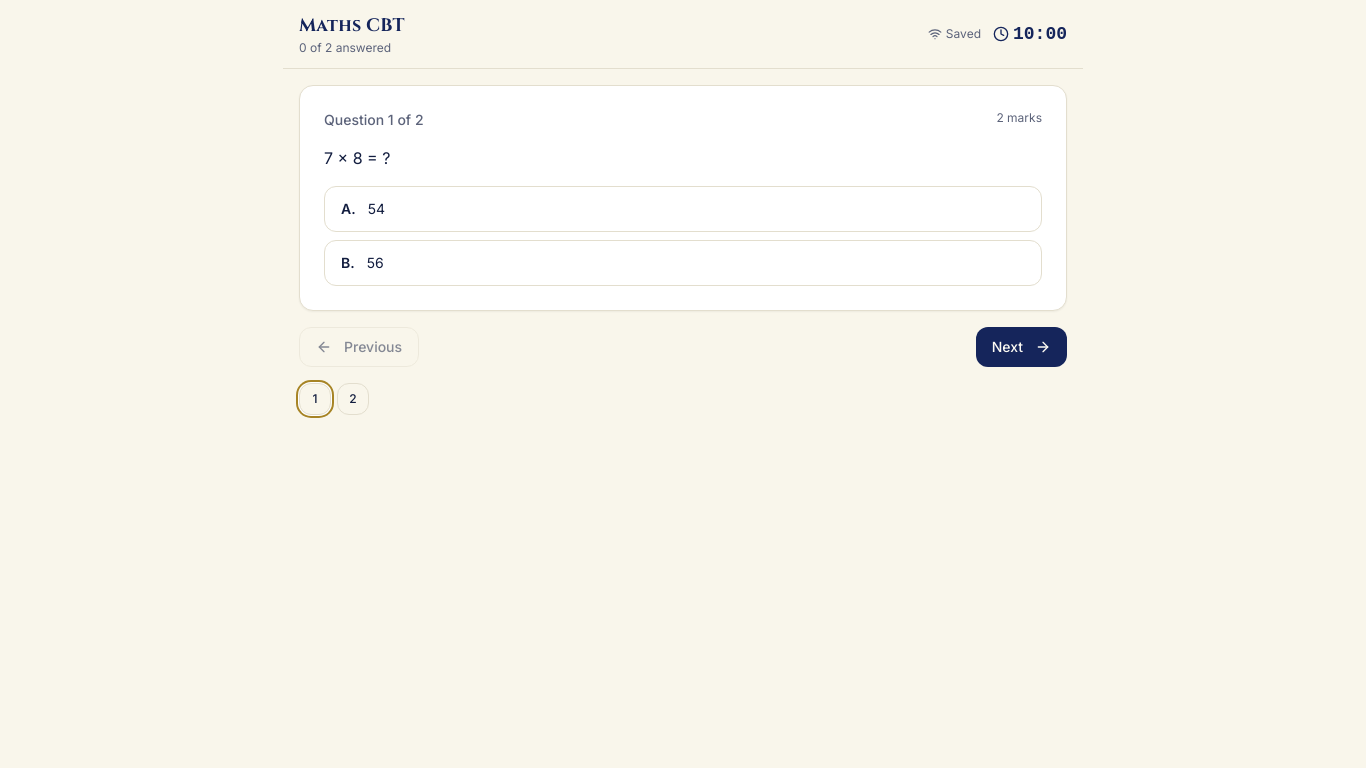
Test: SitTest › hands in queued answers with the submission
Expected: the text "7 x 8 = ?" is shown, [324,148,390,168]
Click the radio button labelled "B. 56".
click(346, 262)  # box [324,240,1042,286]
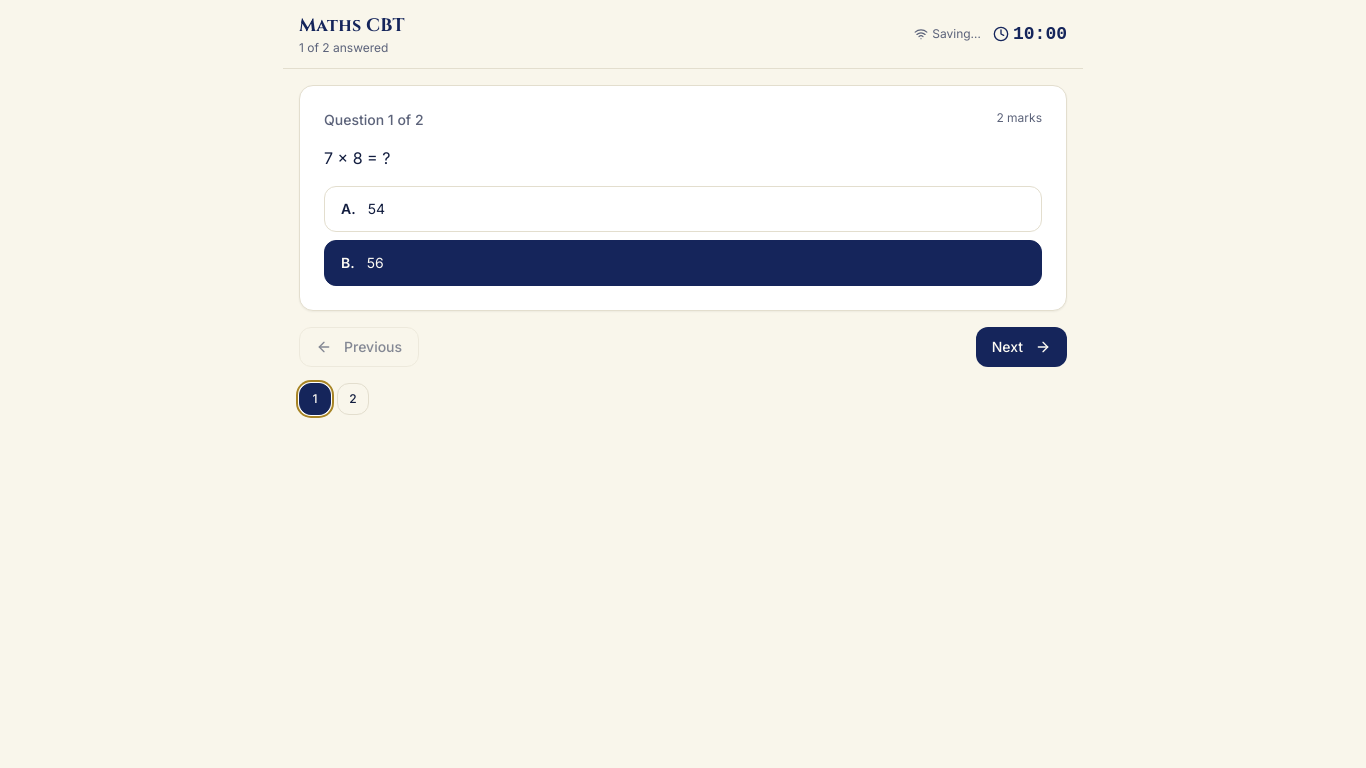
Click the button "Next".
click(1021, 347)  # box [976,327,1067,367]
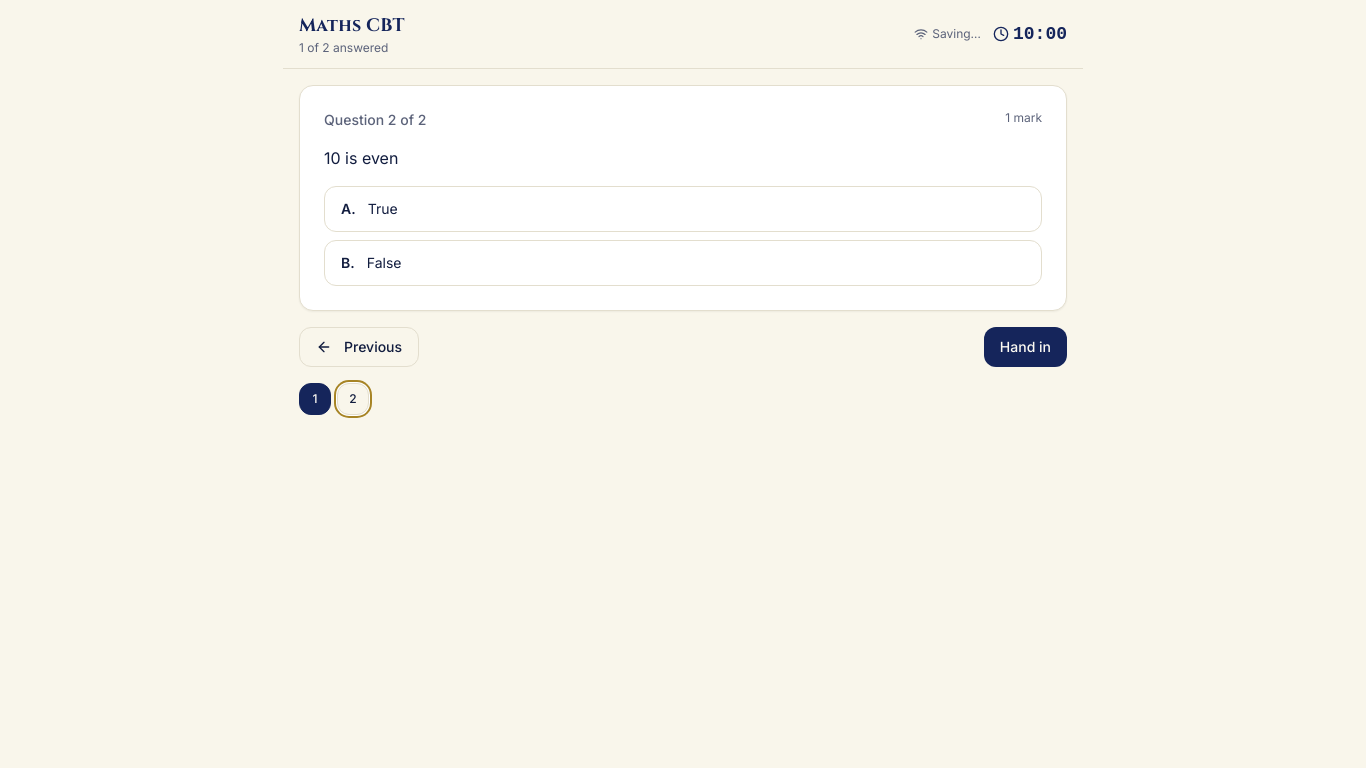
Click the radio button labelled "A. True".
click(346, 208)  # box [324,186,1042,232]
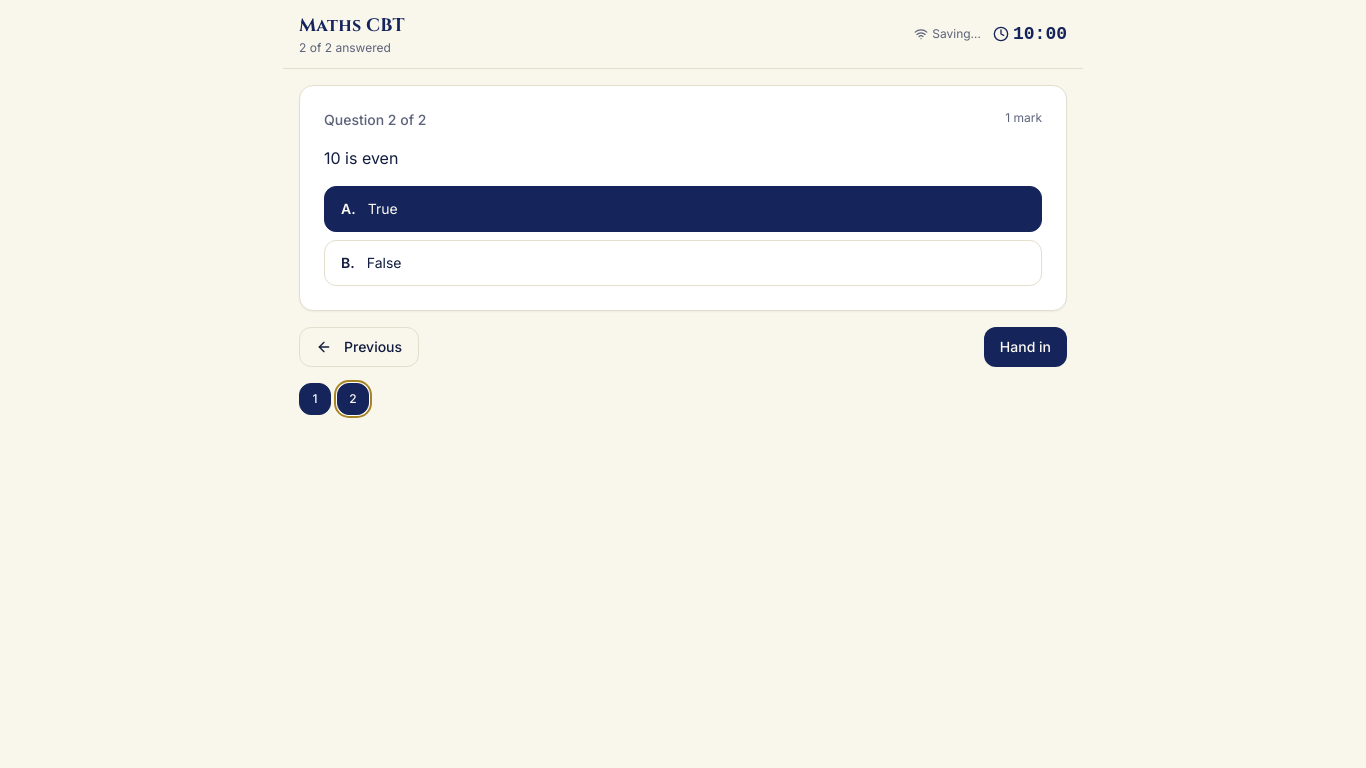
Click the button "Hand in".
click(1025, 347)  # box [984,327,1067,367]
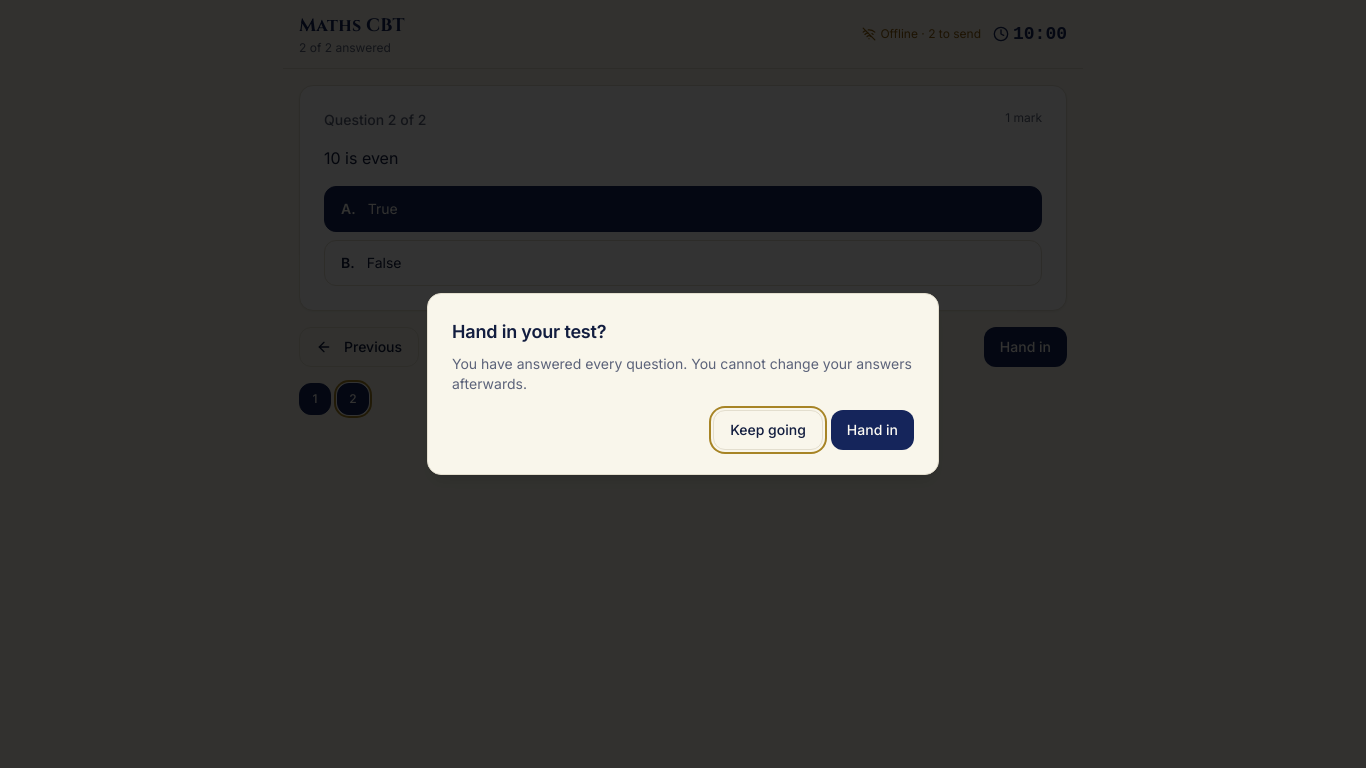
Click the button "Hand in".
click(872, 430)  # box [831,410,914,450]
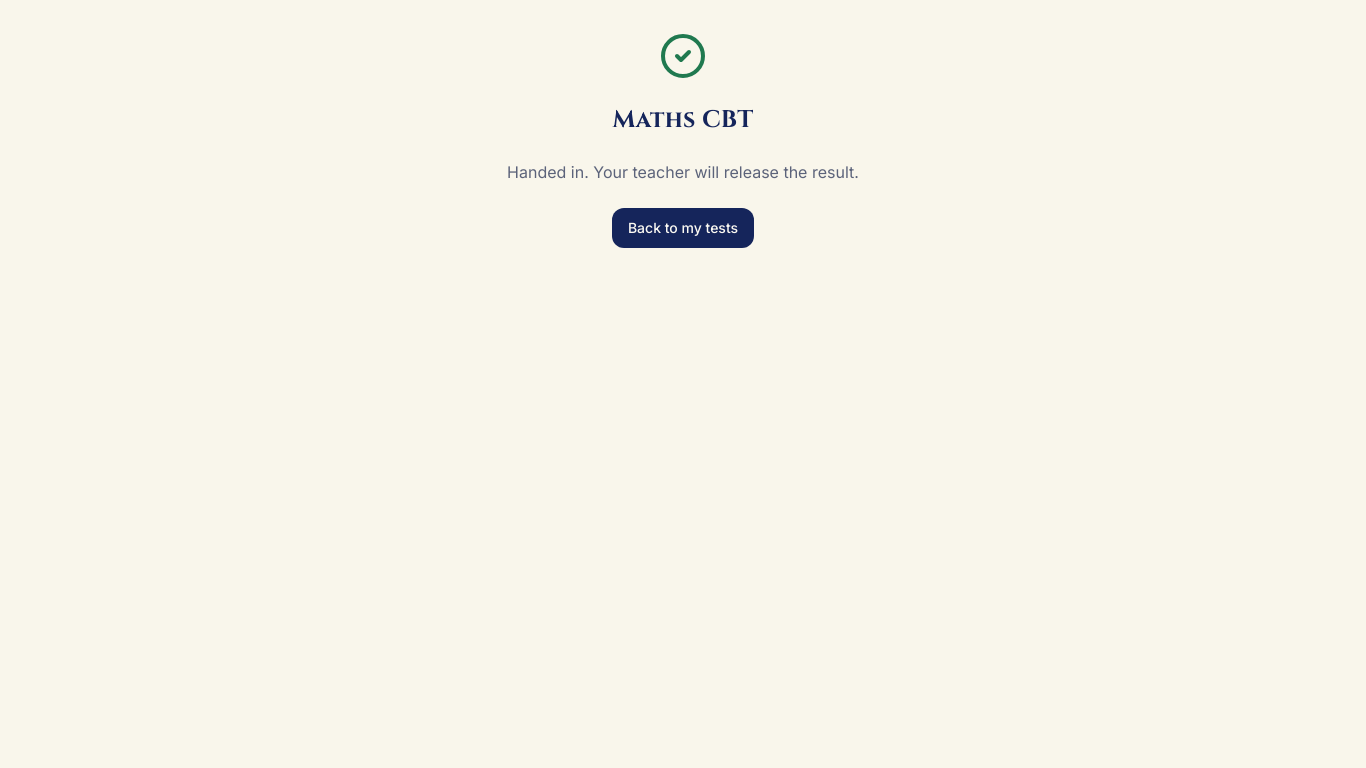
Expected: the text "Handed in. Your teacher will release the result." is shown, [507,162,859,182]
